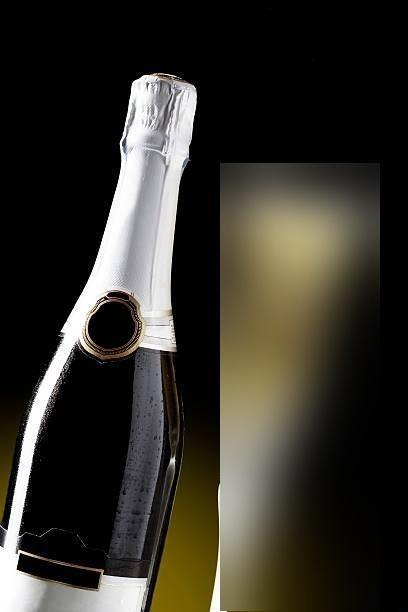bottle-glass: (0, 69, 204, 612)
